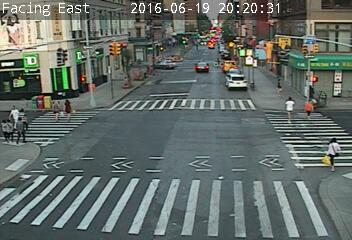neg: (166, 94, 199, 139), (118, 64, 148, 103), (172, 160, 199, 195), (151, 68, 173, 98), (230, 151, 250, 179), (202, 54, 223, 80), (110, 156, 129, 181), (236, 48, 254, 73)
pos: (317, 135, 345, 173), (278, 95, 299, 123), (10, 116, 30, 142), (45, 98, 63, 122), (302, 97, 319, 120), (63, 98, 79, 119), (273, 76, 287, 95)
